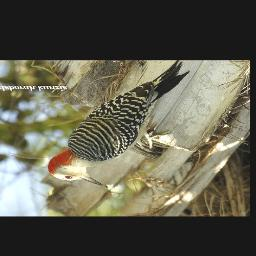Woodpecker: (43, 60, 192, 186)
